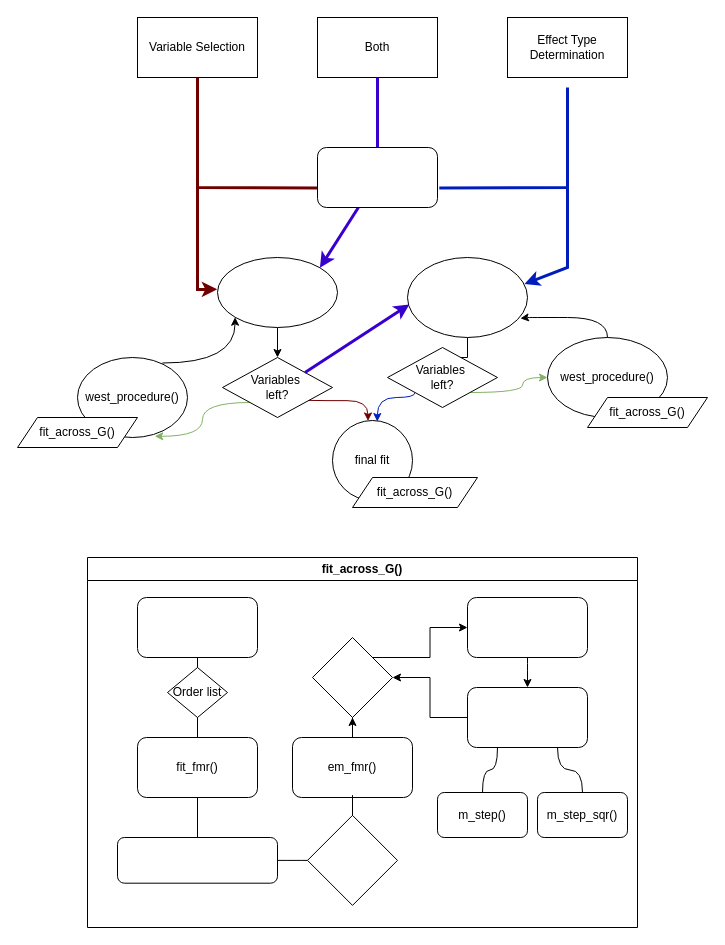
Some shapes in this 725 by 945 pixel diagram are drawn without their labels. The centre of each missing label's shape, as x and y in pixels:
determine_effects(): the point at 467,297
e_step_gmr(): the point at 527,627
fmr_control() + FMRModel: the point at 377,177
m_step: the point at 527,717
make_init_lists(): the point at 197,627
max_iter: the point at 352,677
n_best_init: the point at 352,859
select_best_initialization(): the point at 197,859
select_variables(): the point at 277,292
